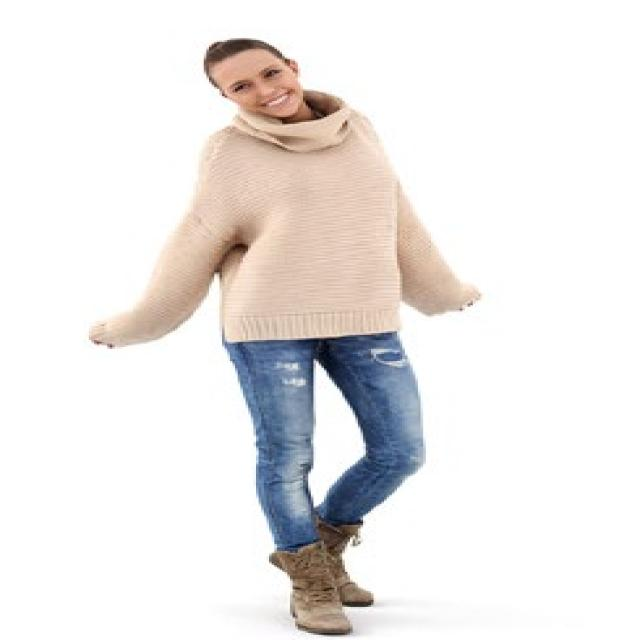standing: (85, 38, 491, 639)
